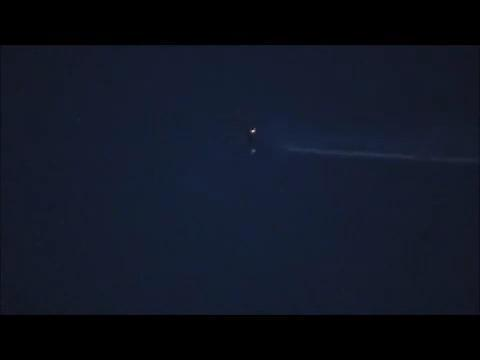Plane: (231, 122, 391, 170)
